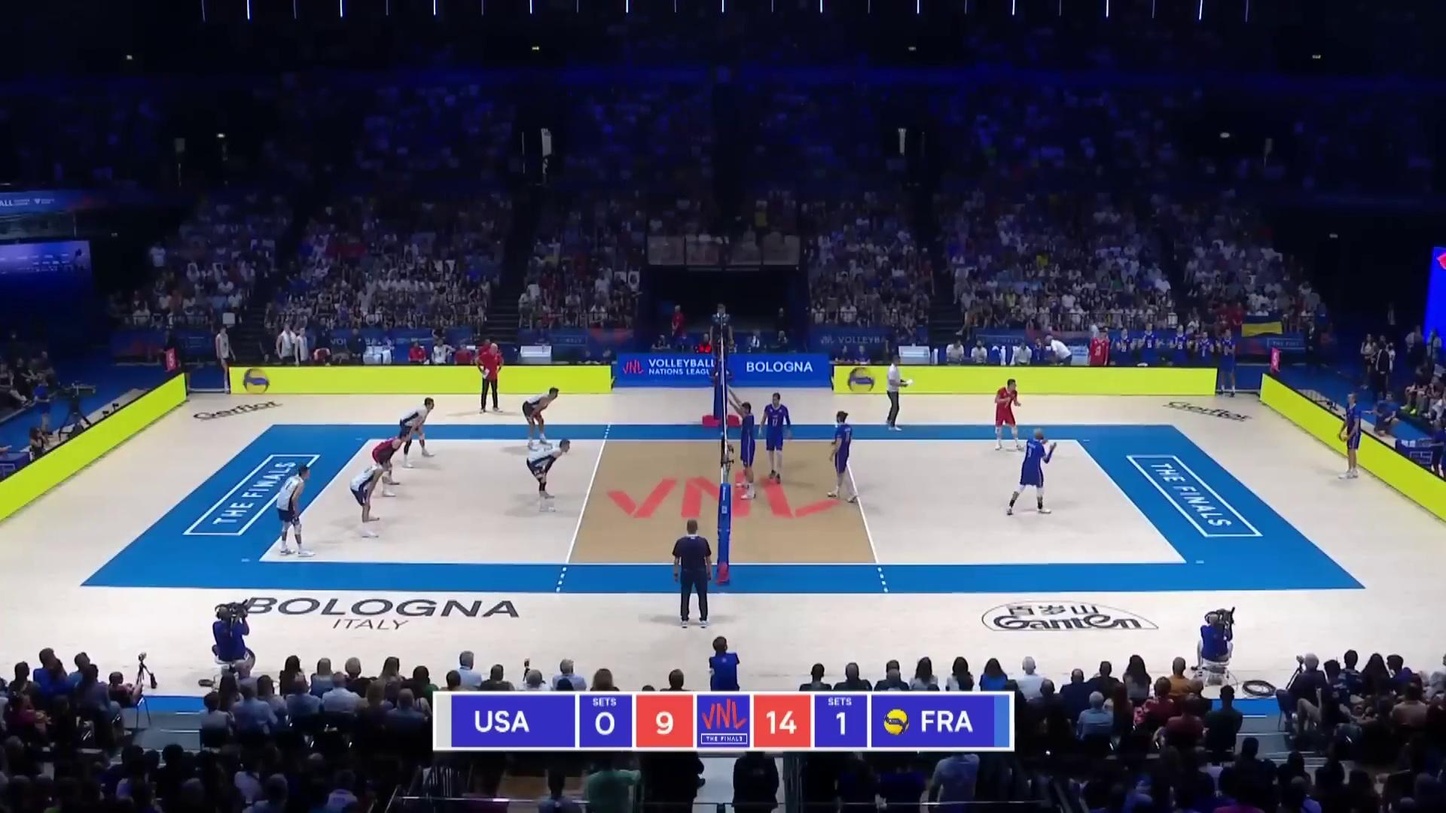player: (1005, 428, 1052, 515), (275, 463, 312, 559), (351, 456, 392, 541), (526, 438, 569, 513), (826, 410, 860, 504), (368, 430, 411, 498), (760, 390, 789, 486), (399, 398, 438, 466), (520, 386, 560, 449), (1336, 392, 1364, 479), (993, 380, 1025, 453), (737, 398, 756, 501)
refree: (671, 519, 713, 629), (710, 303, 733, 376)
